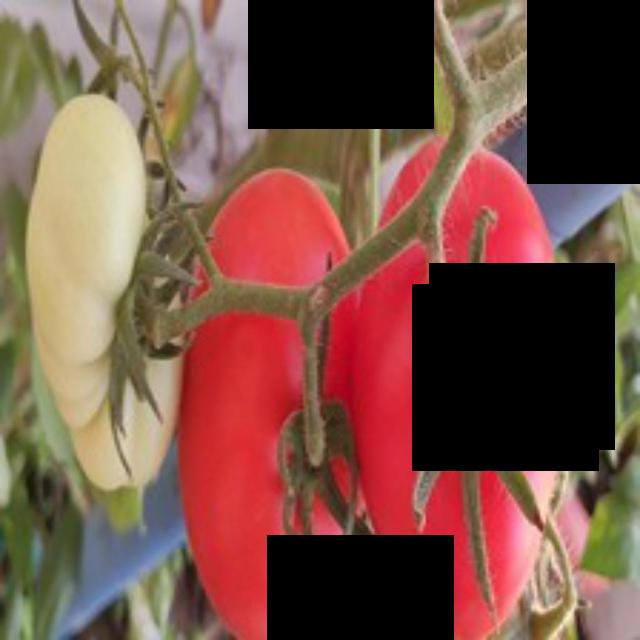tomato: (334, 146, 591, 636)
